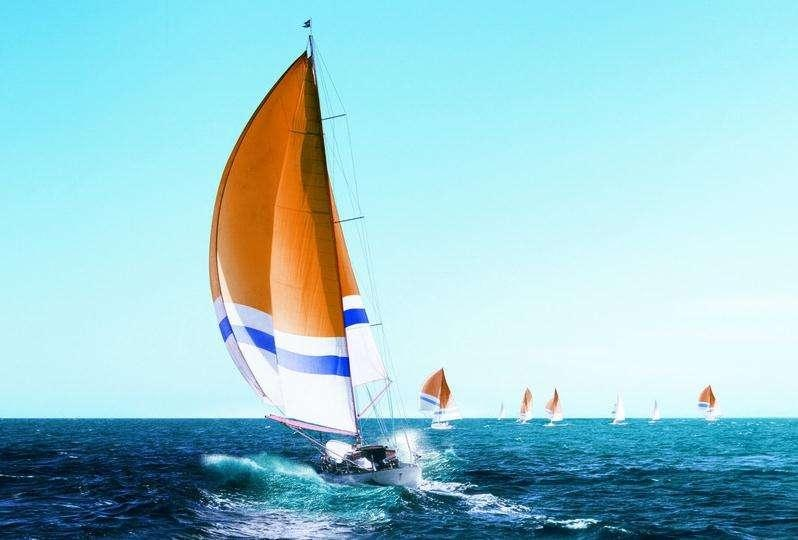fanchuan: (207, 14, 439, 486), (420, 368, 459, 439), (544, 386, 572, 433), (509, 387, 535, 429), (699, 381, 719, 434), (603, 392, 630, 431), (646, 397, 667, 432)
